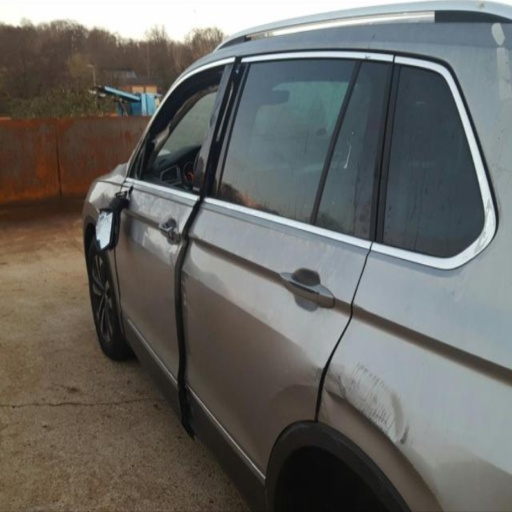dent: (313, 364, 407, 442), (147, 196, 191, 254), (184, 335, 195, 383)
scratch: (348, 365, 364, 392), (362, 378, 380, 402), (346, 361, 360, 387), (369, 401, 382, 419), (357, 369, 368, 389), (380, 413, 391, 428), (385, 418, 396, 433), (378, 410, 387, 428), (363, 393, 372, 410), (375, 403, 384, 419), (378, 408, 385, 422), (391, 430, 398, 439), (184, 292, 188, 307), (371, 375, 378, 382), (378, 380, 384, 386), (368, 373, 373, 379), (381, 384, 384, 388)
